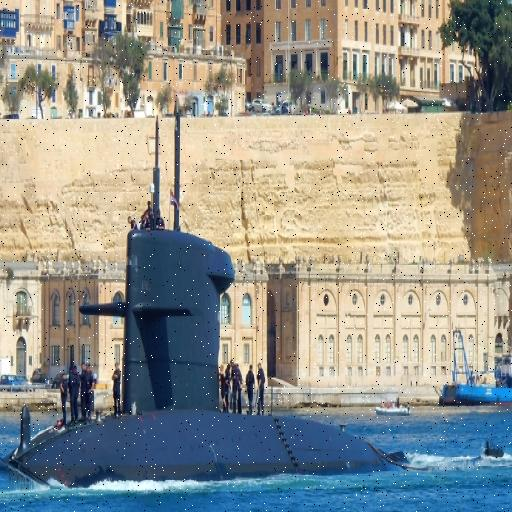submarine: (1, 240, 395, 480)
